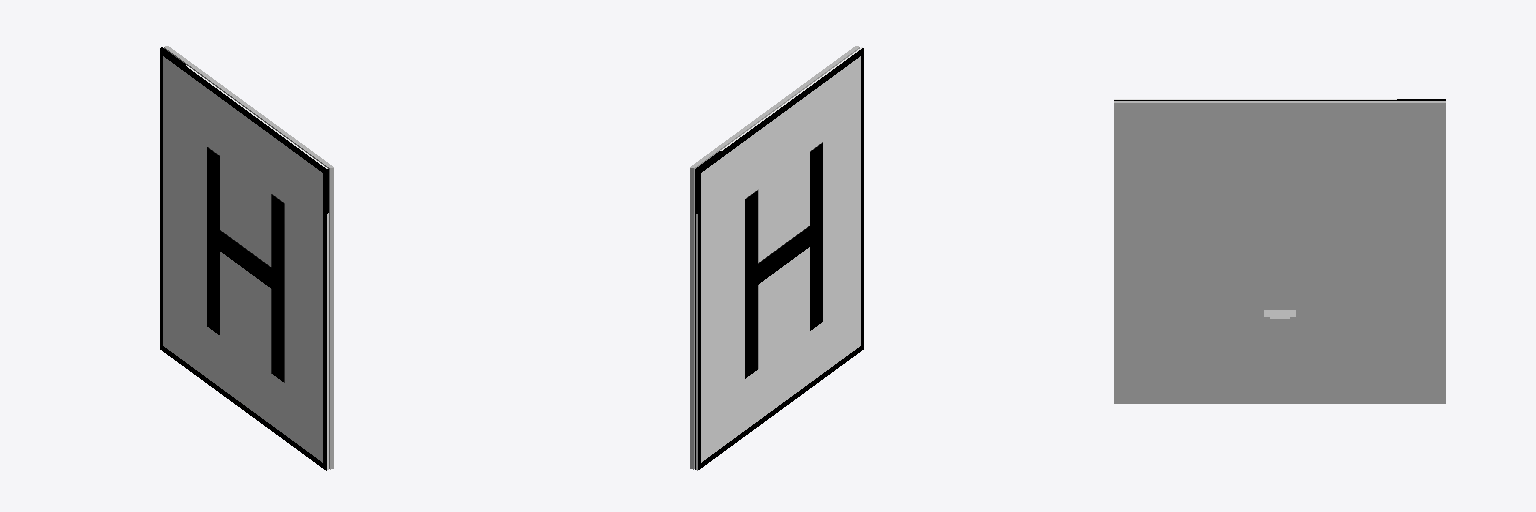
The picture shows the model from 3 angles: view 1: azimuth 30°, elevation 25°; view 2: azimuth 150°, elevation 25°; view 3: azimuth 270°, elevation 25°; orthographic projection.
Parts seen in each view (by area): view 1: cube; view 2: cube; view 3: cube.
Boxes of the visible parts, x1,y1,x2,y2 form: cube: [160, 46, 333, 470]; cube: [690, 46, 863, 470]; cube: [1114, 99, 1445, 403].
Bounding box in the file's own units: 0.0922 × 1 × 1.
Materials: 2 (1 with a texture image).